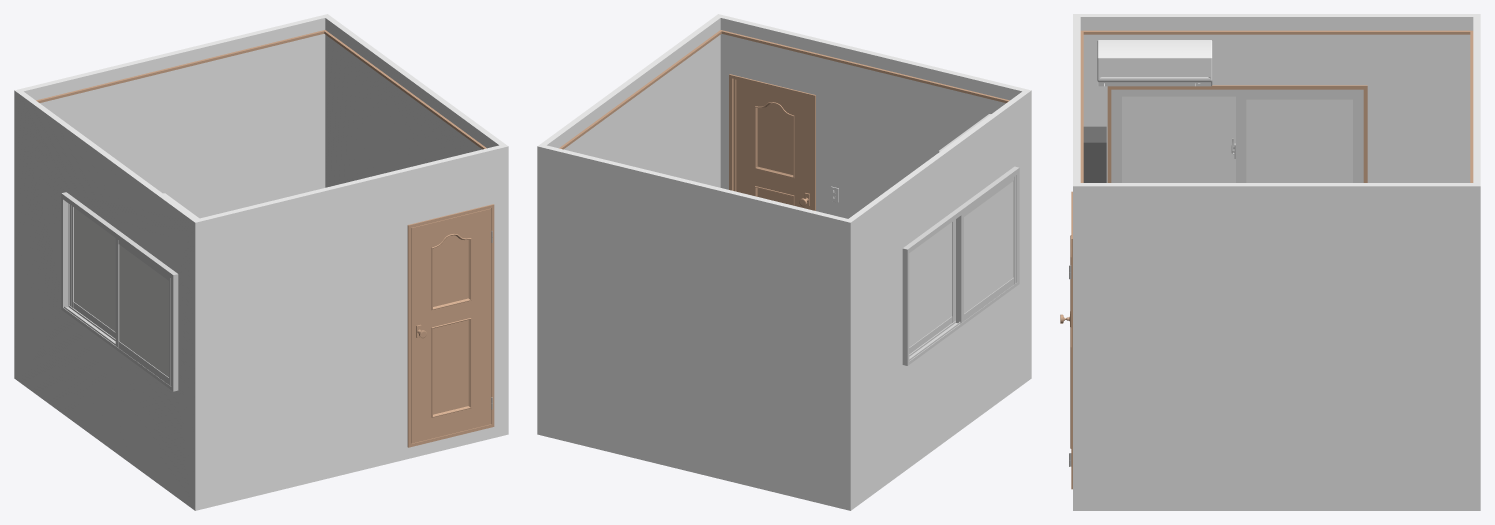
File: 171_私室view.glb
3 views of the same model, side by side, from view 1: azimuth 30°, elevation 25°; view 2: azimuth 150°, elevation 25°; view 3: azimuth 270°, elevation 25° (orthographic). The views are drawn at different scales.
Visible parts, largest first — view 1: 南壁, 西壁, 北壁, 扉, 東壁, 左, 右; view 2: 北壁, 西壁, 南壁, 東壁, 扉, 左, 右; view 3: 東壁, 西壁, 右, 左, エアコン, 南壁, 北壁, 本棚.001, 扉.
Boxes of the visible parts, x1,y1,x2,y2 form: 南壁: (192, 144, 508, 510); 西壁: (17, 91, 197, 508); 北壁: (14, 14, 330, 380); 扉: (411, 208, 492, 443); 東壁: (324, 16, 504, 187); 左: (115, 238, 171, 386); 右: (69, 204, 115, 338); 北壁: (537, 144, 853, 510); 西壁: (848, 91, 1028, 508); 南壁: (715, 14, 1031, 380); 東壁: (541, 16, 721, 187); 扉: (736, 79, 812, 209); 左: (956, 174, 1017, 323); 右: (909, 219, 955, 353); 東壁: (1080, 183, 1473, 510); 西壁: (1080, 14, 1473, 182); 右: (1234, 94, 1359, 182); 左: (1115, 94, 1235, 182); エアコン: (1097, 40, 1212, 86); 南壁: (1069, 14, 1083, 510); 北壁: (1470, 14, 1480, 510); 本棚.001: (1083, 126, 1106, 182); 扉: (1060, 235, 1071, 460).
Bounding box in the file's own units: 2.77 × 2.4 × 2.82.
